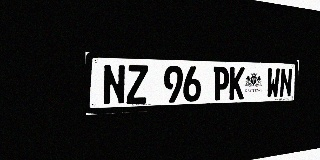6: (183, 66, 201, 102)
9: (164, 65, 183, 103)
K: (229, 67, 245, 100)
N: (103, 64, 126, 105), (279, 68, 293, 98)
P: (213, 67, 229, 101)
W: (266, 68, 280, 98)
Z: (126, 65, 148, 104)
